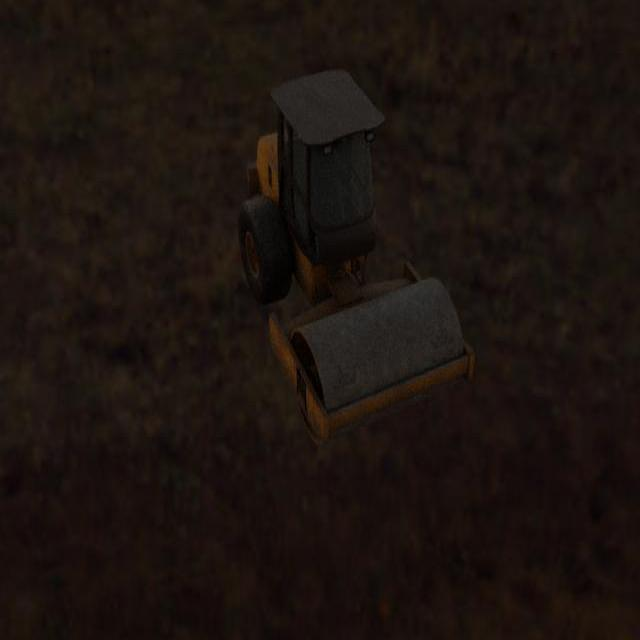Roller: (237, 68, 475, 445)
